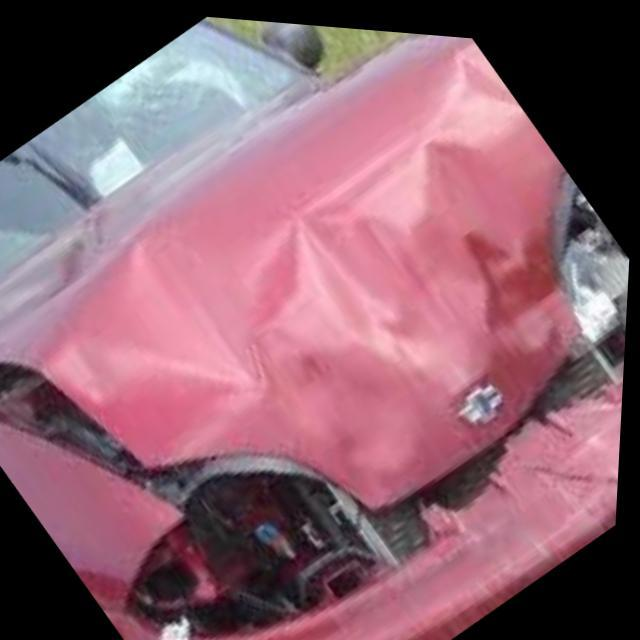dislocated part: (26, 29, 632, 640)
